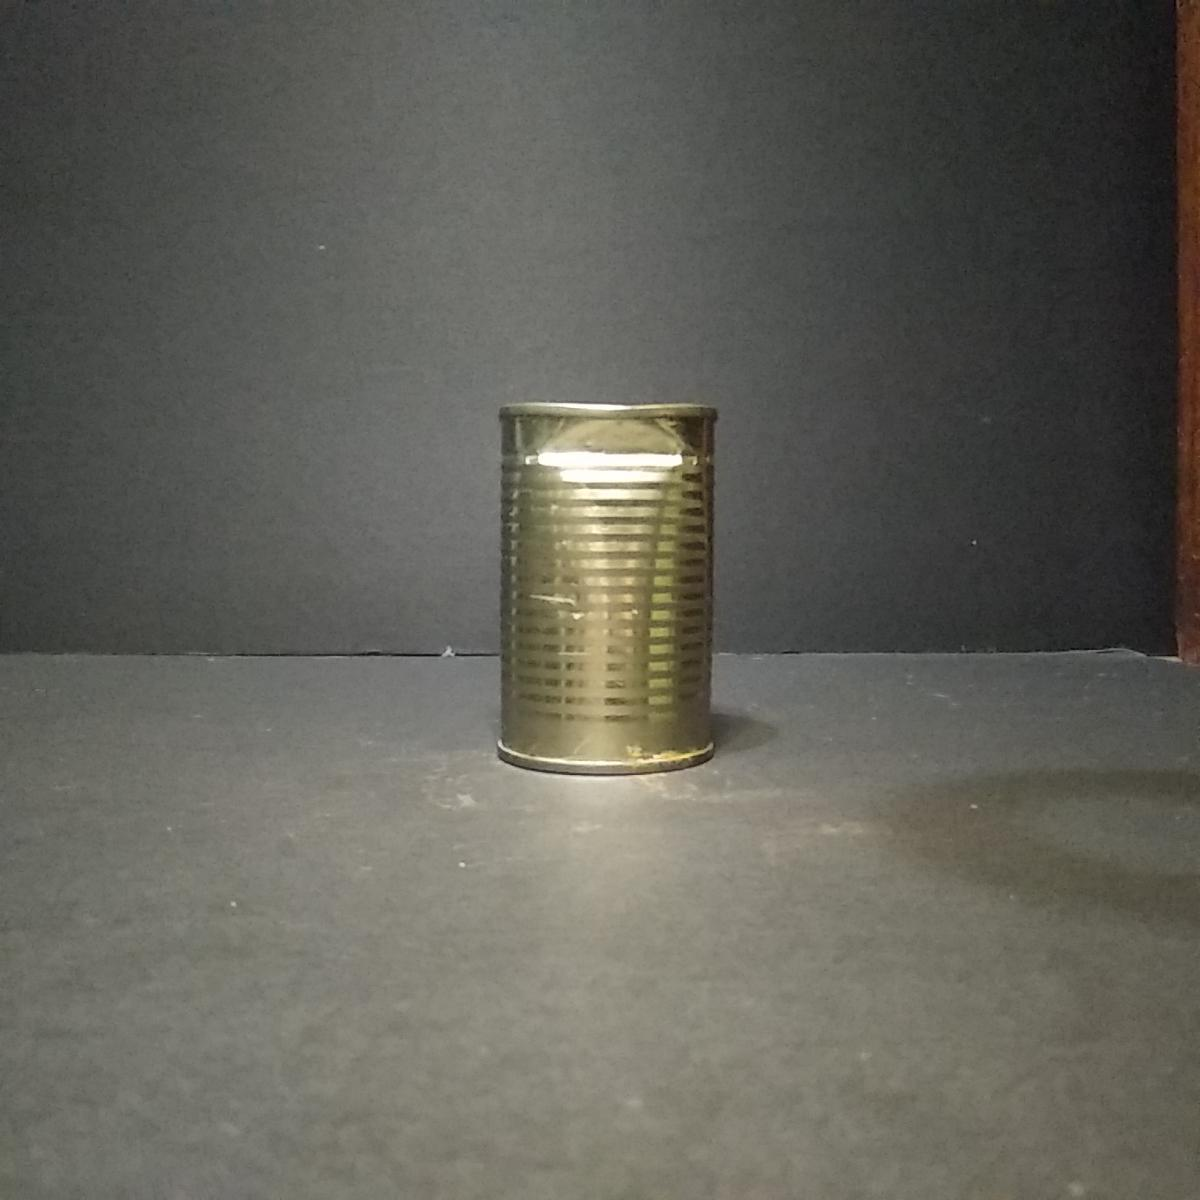Dented: (490, 386, 726, 780)
